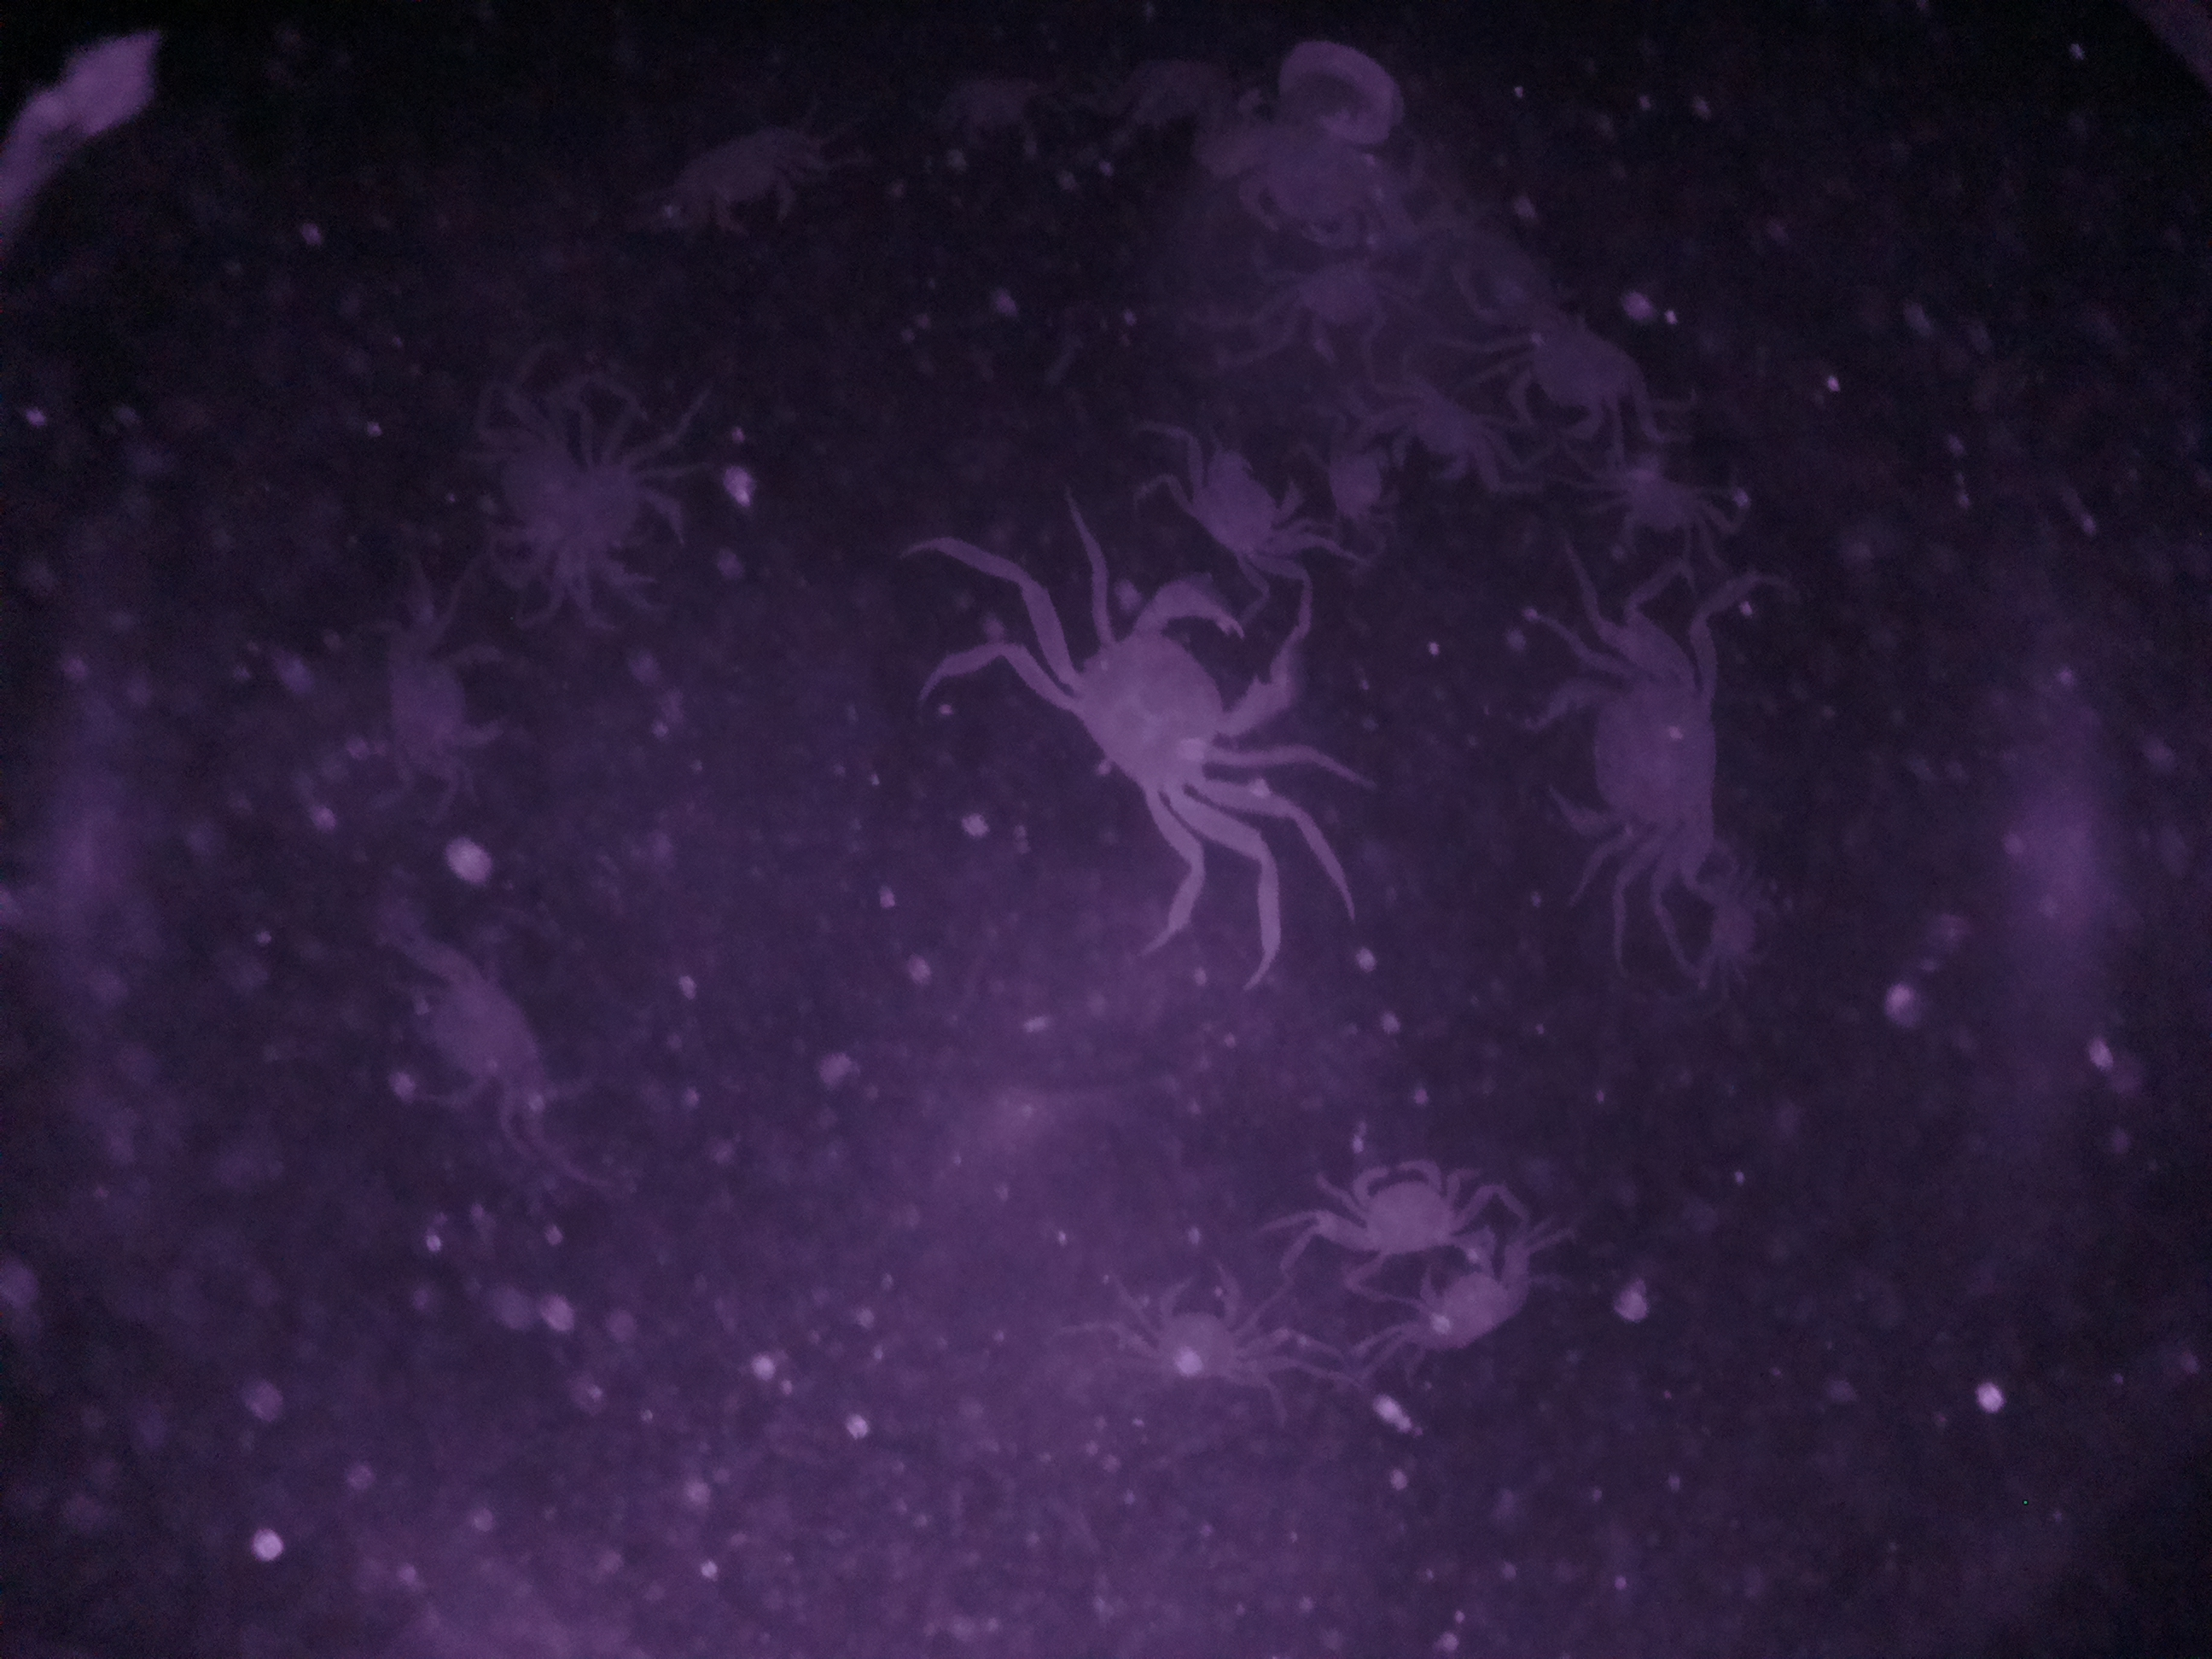Crab: (1010, 575, 1308, 875), (1507, 627, 1730, 896), (1489, 279, 1630, 457), (1113, 1248, 1278, 1398), (1155, 427, 1322, 573), (1305, 1150, 1482, 1286)
